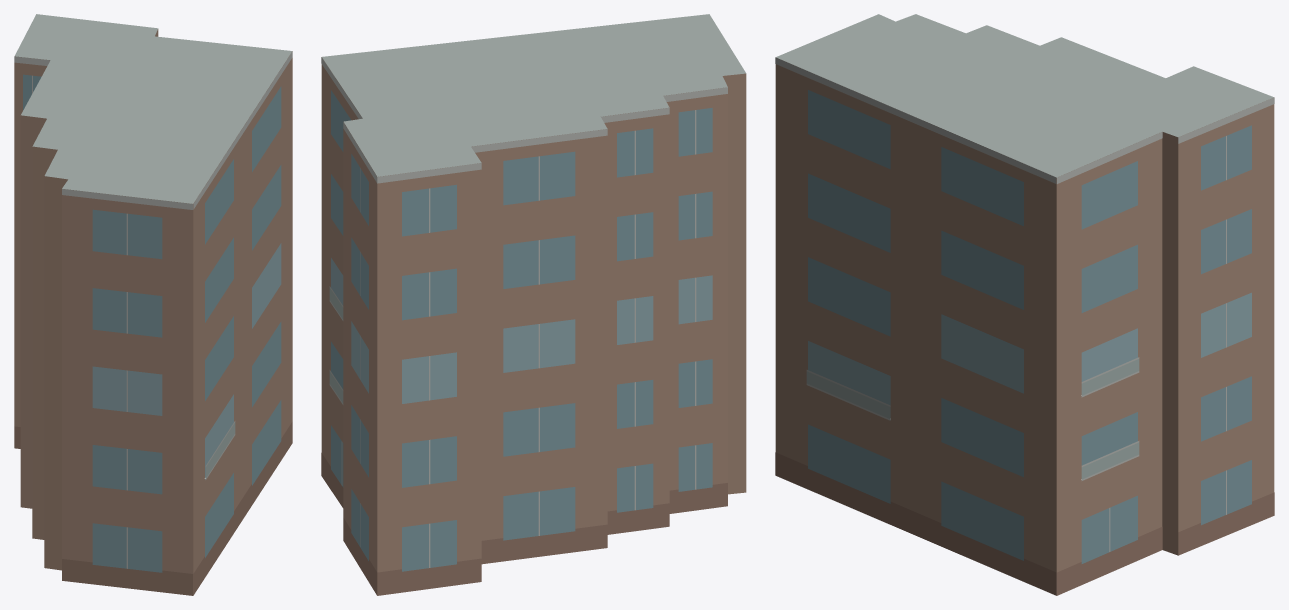
The model's file is survey-upis-32739045.glb.
3 views of the same model, side by side, from view 1: azimuth 30°, elevation 25°; view 2: azimuth 150°, elevation 25°; view 3: azimuth 270°, elevation 25° (orthographic). The views are drawn at different scales.
Parts seen in each view (by area): view 1: survey-upis-32739045.tmp; view 2: survey-upis-32739045.tmp; view 3: survey-upis-32739045.tmp.
Part boxes in pixels (x1=…): survey-upis-32739045.tmp: x1=14, y1=14, x2=292, y2=595; survey-upis-32739045.tmp: x1=321, y1=14, x2=746, y2=595; survey-upis-32739045.tmp: x1=775, y1=14, x2=1274, y2=595.
Bounding box in the file's own units: 12.8 × 15.25 × 16.49.
